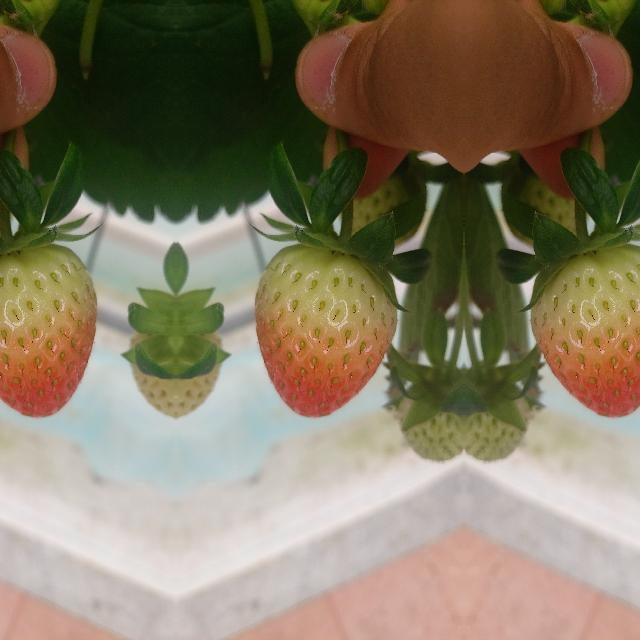Health_25: (402, 360, 462, 462), (464, 360, 524, 462)
Health_75: (254, 243, 396, 417), (530, 243, 640, 417), (0, 243, 96, 417)
